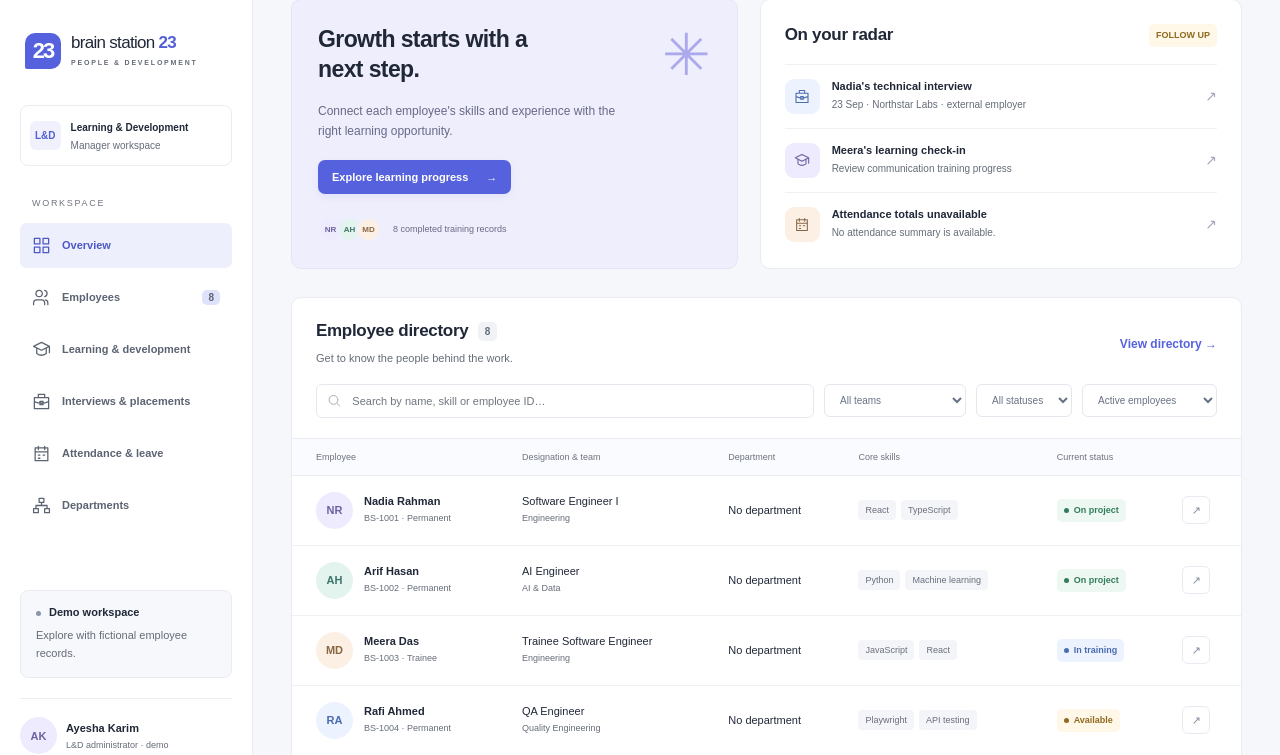
Test case: Portal directory › filters by a skill in the search box
(page scrolled)
Type "TypeScript" into the field named "Search employees" at (576, 401), box [350,394,802,408]
(page scrolled)
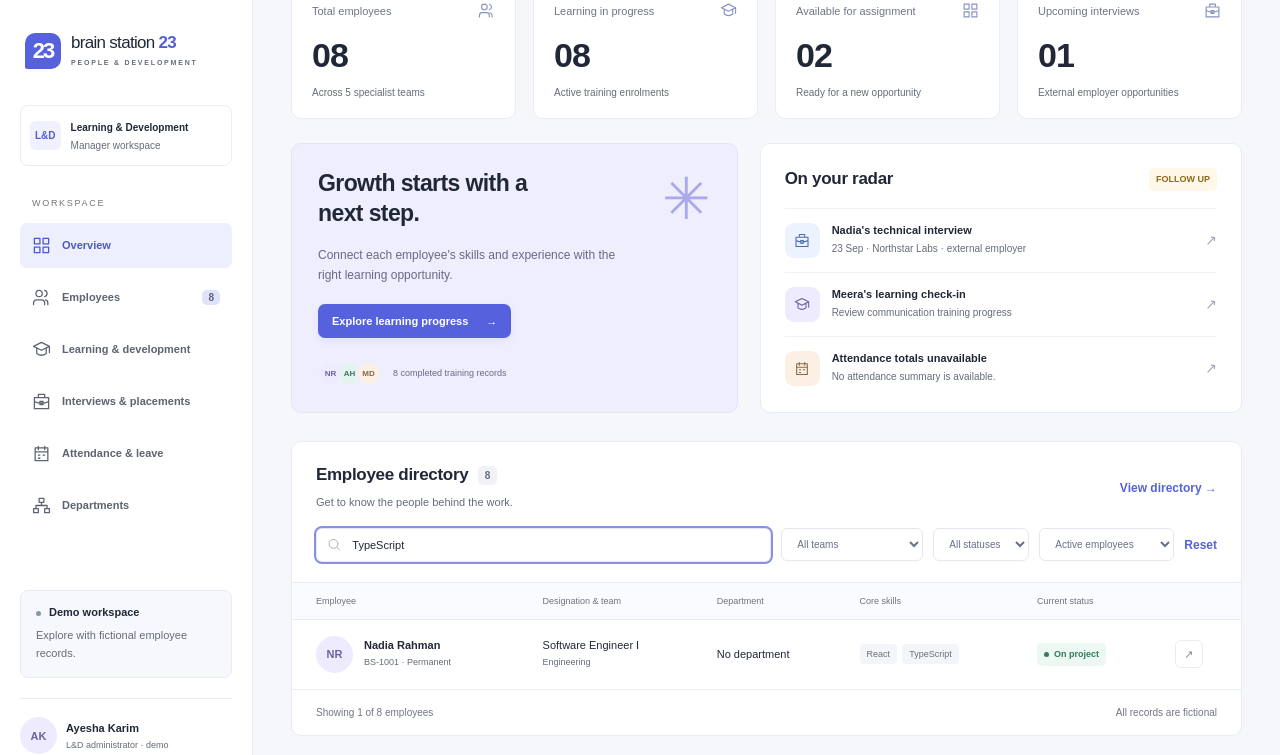
Check: the text "Nadia Rahman" is shown, box [364,639,440,651]
Check: the number of rows is 2, box [292,582,1241,619]; [292,619,1241,689]
